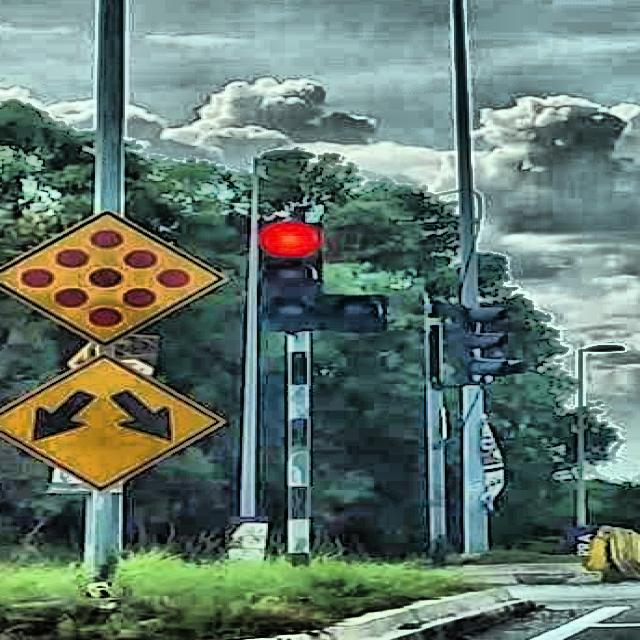red: (259, 221, 320, 331)
